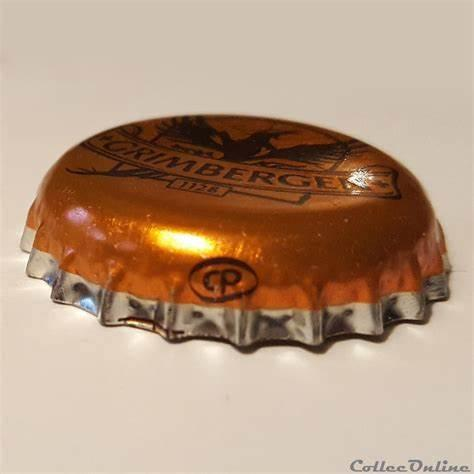metal: (21, 116, 451, 348)
